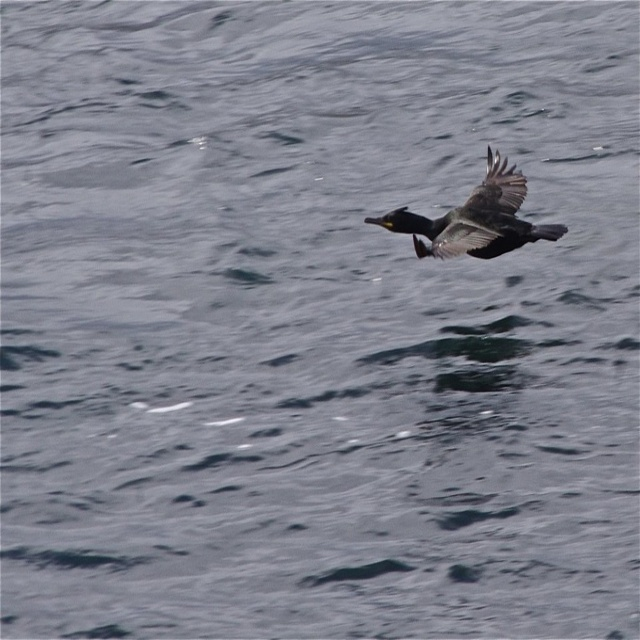Duck: (360, 136, 565, 262)
